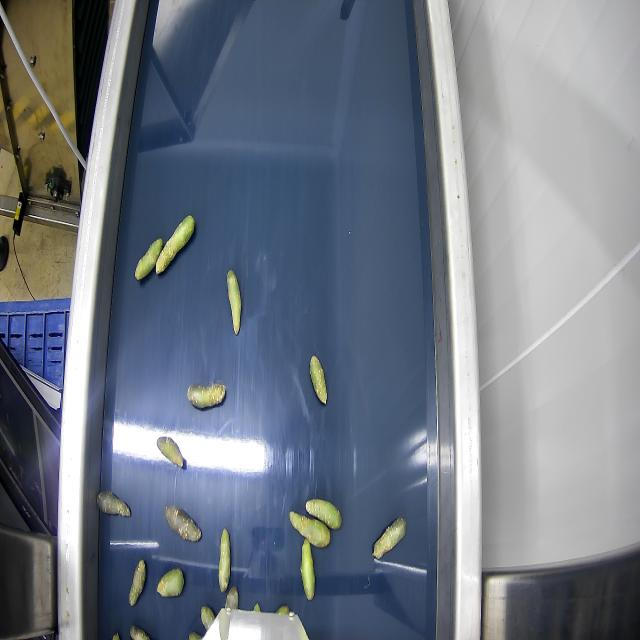Baby Potato: (157, 212, 194, 276), (290, 511, 331, 548), (373, 517, 407, 560), (164, 504, 201, 541), (304, 497, 342, 531), (134, 237, 164, 280), (187, 381, 226, 409), (226, 268, 242, 334), (156, 435, 186, 469), (300, 537, 315, 602), (97, 490, 131, 517), (309, 354, 327, 404), (128, 558, 146, 606), (157, 568, 185, 598), (218, 526, 230, 593), (200, 605, 214, 631), (225, 585, 238, 611), (132, 624, 148, 640)
